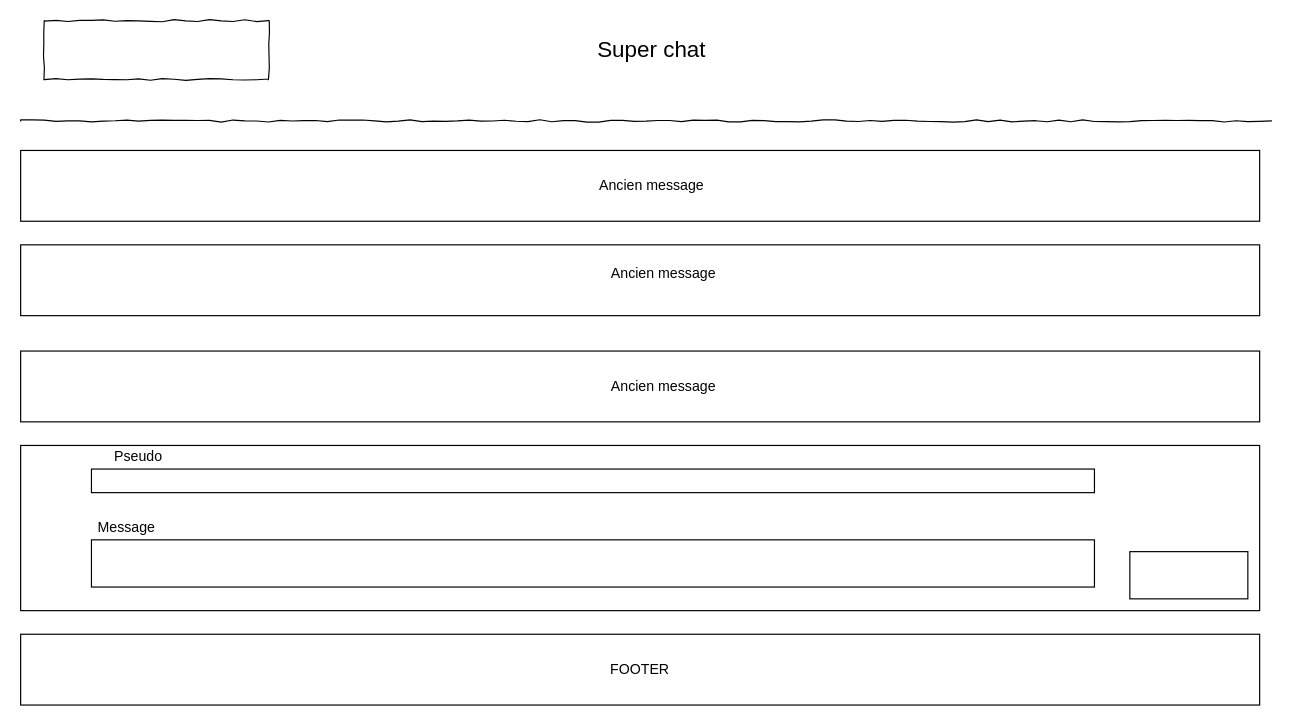
This 1292x726 diagram has some shape labels left out. Each missing label, with the centre of its shape:
LOGO: [155,49]
Répondre: [1188,574]
